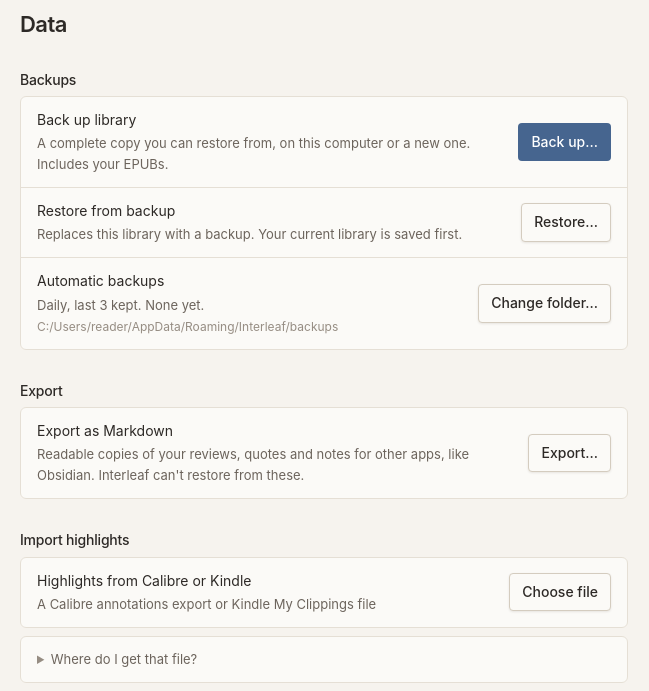
Test: the Data screen › backs up, naming where it went and what went with it
Click the button "Back up…". click: click(565, 142)
box: [518,123,611,161]
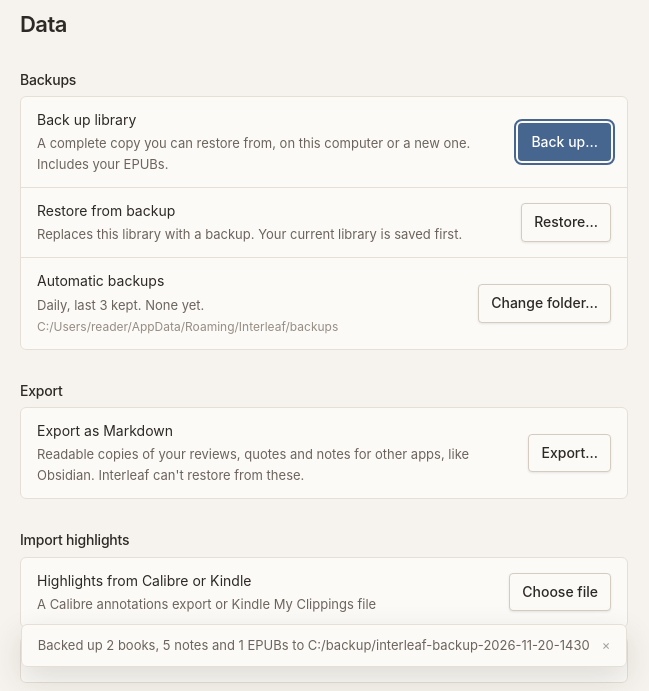
Now the text "Backed up 2 books, 5 notes and 1 EPUBs to C:/backup/interleaf-backup-2026-11-20-1430" is shown, box [38,637,590,653]
